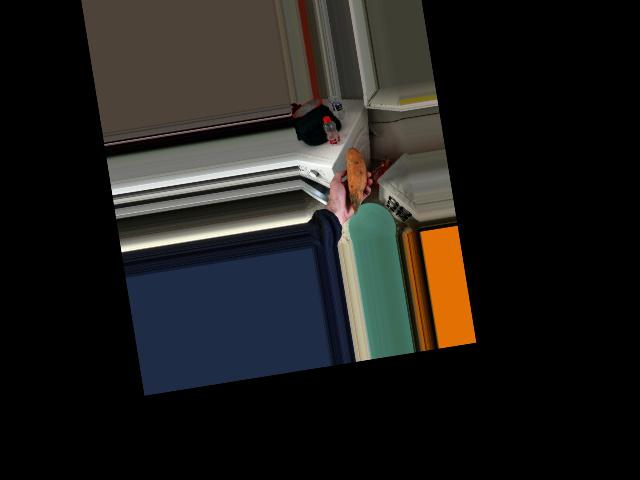sweet_potato: (342, 152, 372, 210)
